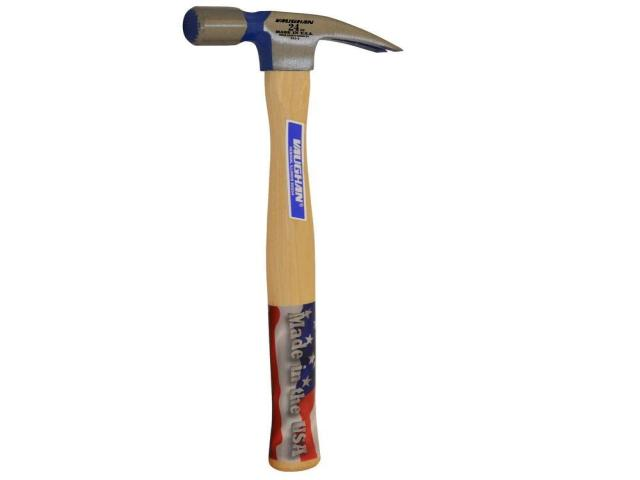hammer: (181, 5, 401, 472)
